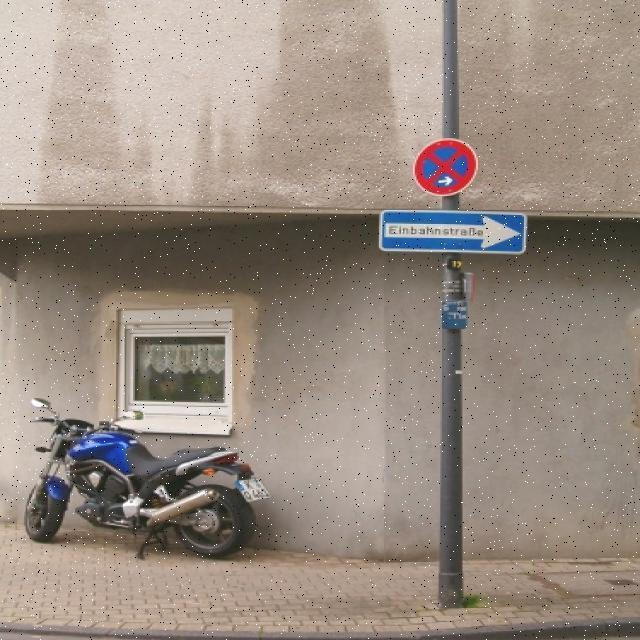motorcycle: (22, 391, 278, 568)
